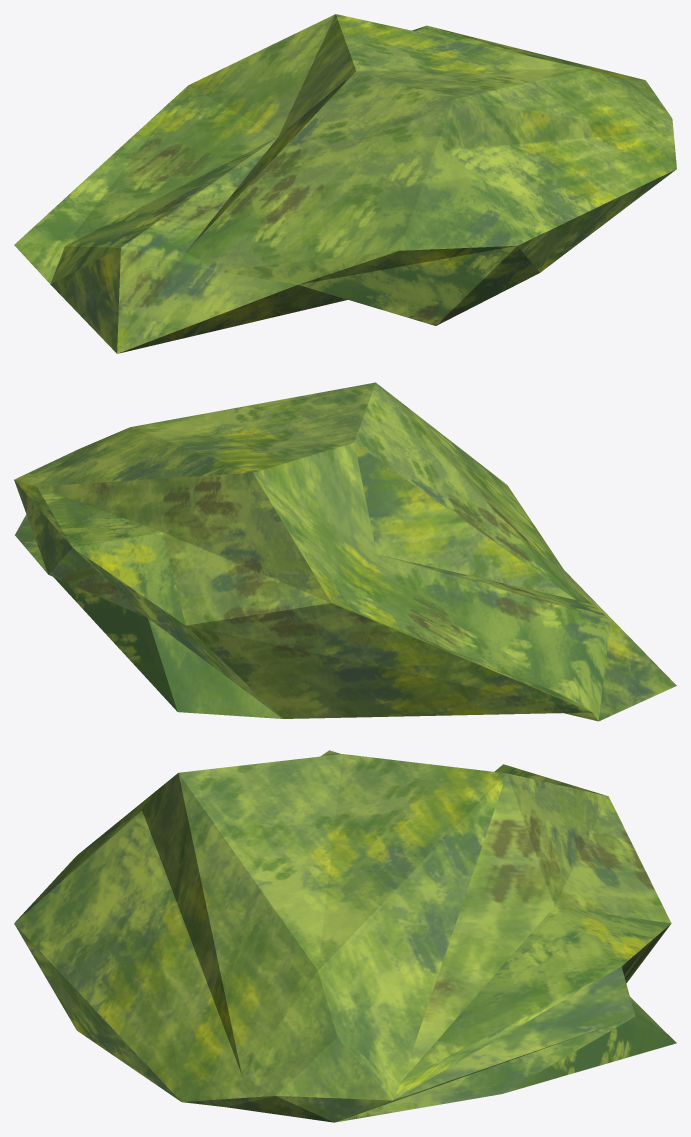
Rendered from foliage9.glb.
The picture shows the model from 3 angles, top to bottom: view 1: azimuth 30°, elevation 25°; view 2: azimuth 150°, elevation 25°; view 3: azimuth 270°, elevation 25°; orthographic projection. The views are drawn at different scales.
Visible parts, largest first — view 1: foliage9; view 2: foliage9; view 3: foliage9.
Part boxes in pixels (left/top/right/bottom): foliage9: left=14, top=14, right=676, bottom=353; foliage9: left=14, top=382, right=676, bottom=721; foliage9: left=14, top=750, right=676, bottom=1122.
Size of the model in its own units: 19.09 by 6.4 by 13.21.
1 material, 1 textured.
